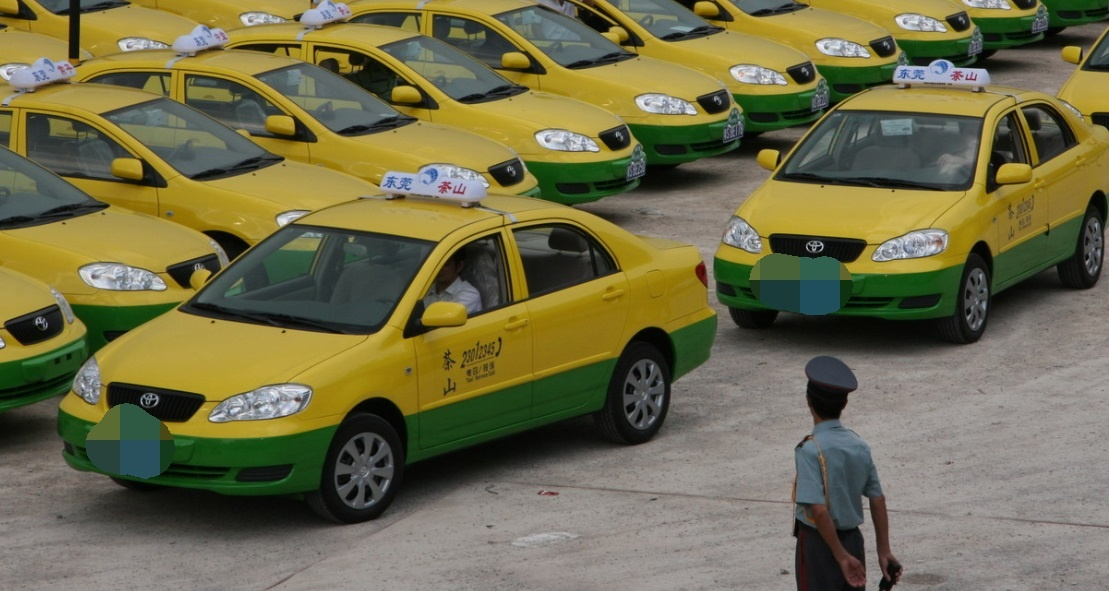taxi: (57, 193, 712, 505), (719, 80, 1103, 352), (77, 38, 548, 229), (20, 65, 344, 280)
